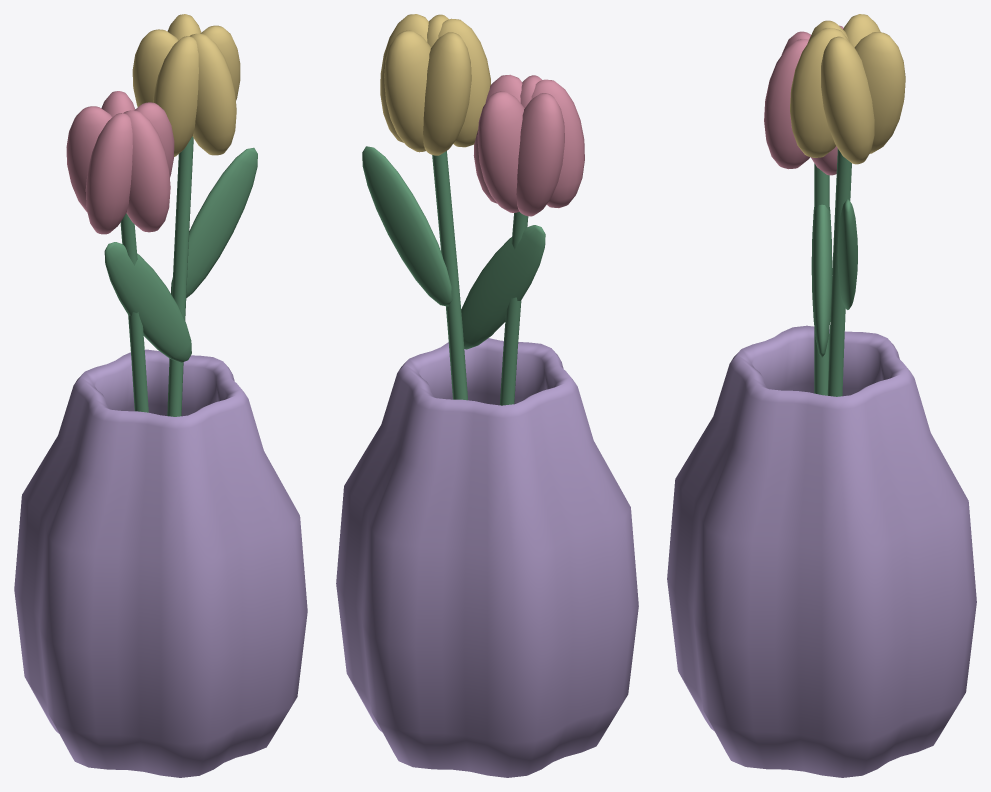
Rendered from lm_tulip_vase.glb.
3 renders of one model, left to right at view 1: azimuth 30°, elevation 25°; view 2: azimuth 150°, elevation 25°; view 3: azimuth 270°, elevation 25°, orthographic. The views are drawn at different scales.
Parts seen in each view (by area): view 1: prop; view 2: prop; view 3: prop.
Boxes of the visible parts, x1,y1,x2,y2 form: prop: [14, 14, 307, 777]; prop: [336, 14, 638, 777]; prop: [667, 14, 976, 777].
Bounding box in the file's own units: 0.12 × 0.3127 × 0.12.
